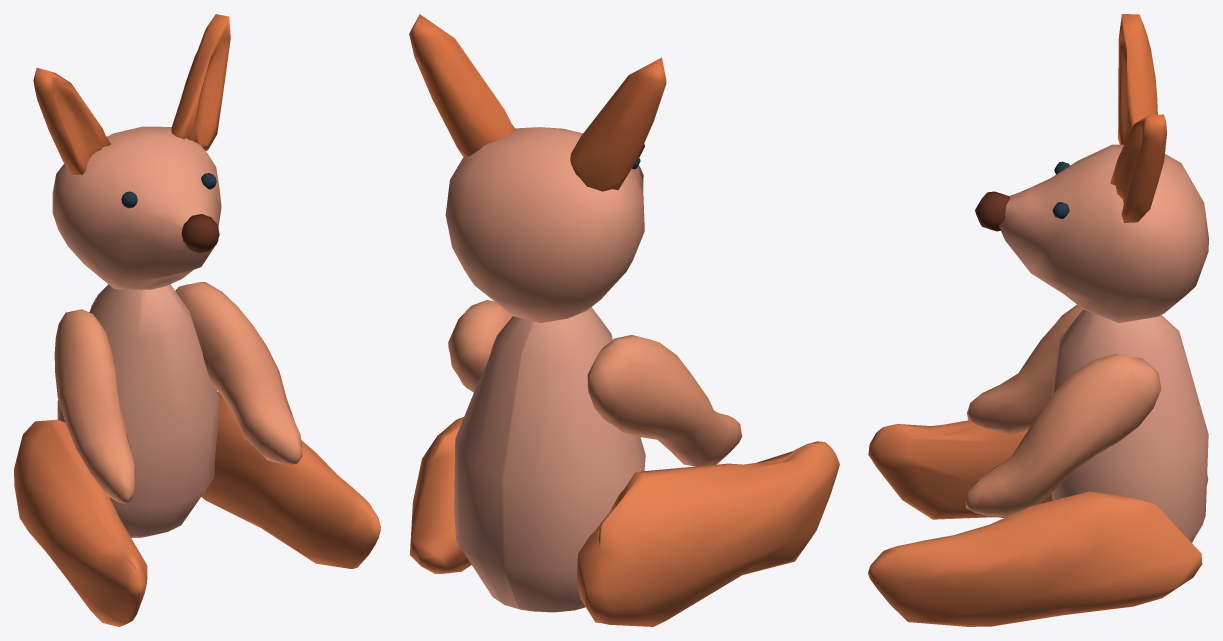
The model's file is SM_Kangaroo_01.fbx.
The picture shows the model from 3 angles, left to right: view 1: azimuth 30°, elevation 25°; view 2: azimuth 150°, elevation 25°; view 3: azimuth 270°, elevation 25°; orthographic projection. The views are drawn at different scales.
Visible parts, largest first — view 1: SM_Kangaroo_01; view 2: SM_Kangaroo_01; view 3: SM_Kangaroo_01.
Boxes of the visible parts, x1=… form: SM_Kangaroo_01: x1=14, y1=14, x2=380, y2=626; SM_Kangaroo_01: x1=409, y1=14, x2=839, y2=626; SM_Kangaroo_01: x1=868, y1=14, x2=1208, y2=626.
Bounding box in the file's own units: 65.25 × 109 × 65.18.
